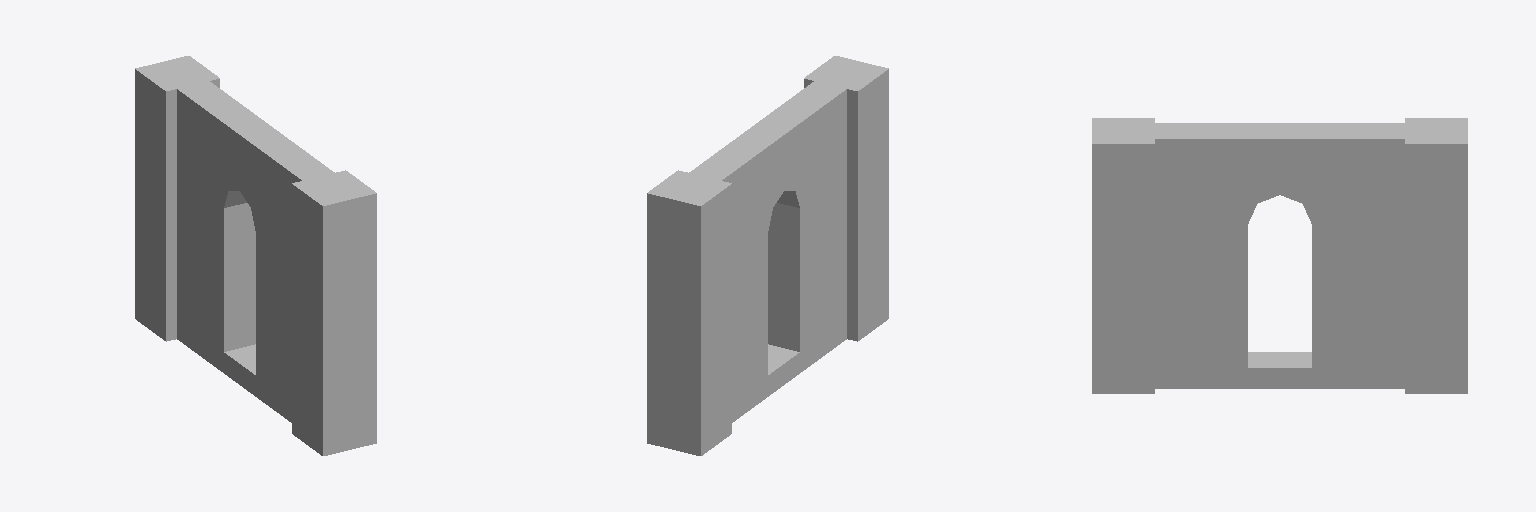
File: Grey_Window_Round_Long_01.obj
3 renders of one model, left to right at view 1: azimuth 30°, elevation 25°; view 2: azimuth 150°, elevation 25°; view 3: azimuth 270°, elevation 25°, orthographic.
Visible parts, largest first — view 1: Mesh1 Grey_Window_Round_Long Model; view 2: Mesh1 Grey_Window_Round_Long Model; view 3: Mesh1 Grey_Window_Round_Long Model.
Boxes of the visible parts, <box> form: Mesh1 Grey_Window_Round_Long Model: <box>135,56,376,455</box>; Mesh1 Grey_Window_Round_Long Model: <box>647,56,888,455</box>; Mesh1 Grey_Window_Round_Long Model: <box>1092,118,1467,393</box>.
Bounding box in the file's own units: 0.5 × 2.2 × 3.